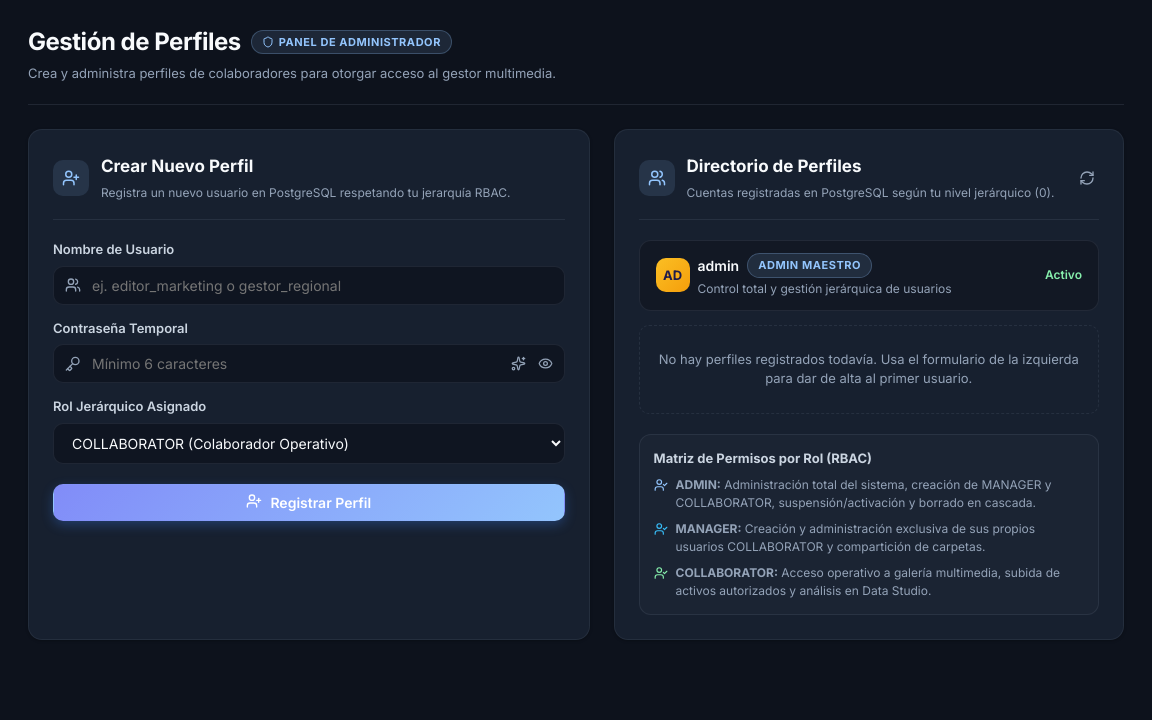
Test: UserProfilesView — RBAC & PostgreSQL CRUD Integration (Módulo 12) › allows ADMIN to select MANAGER role when creating a user
Type "nuevo_gestor" into the field labelled "Nombre de Usuario" at (309, 285), box top-left (53, 266), bottom-right (564, 304)
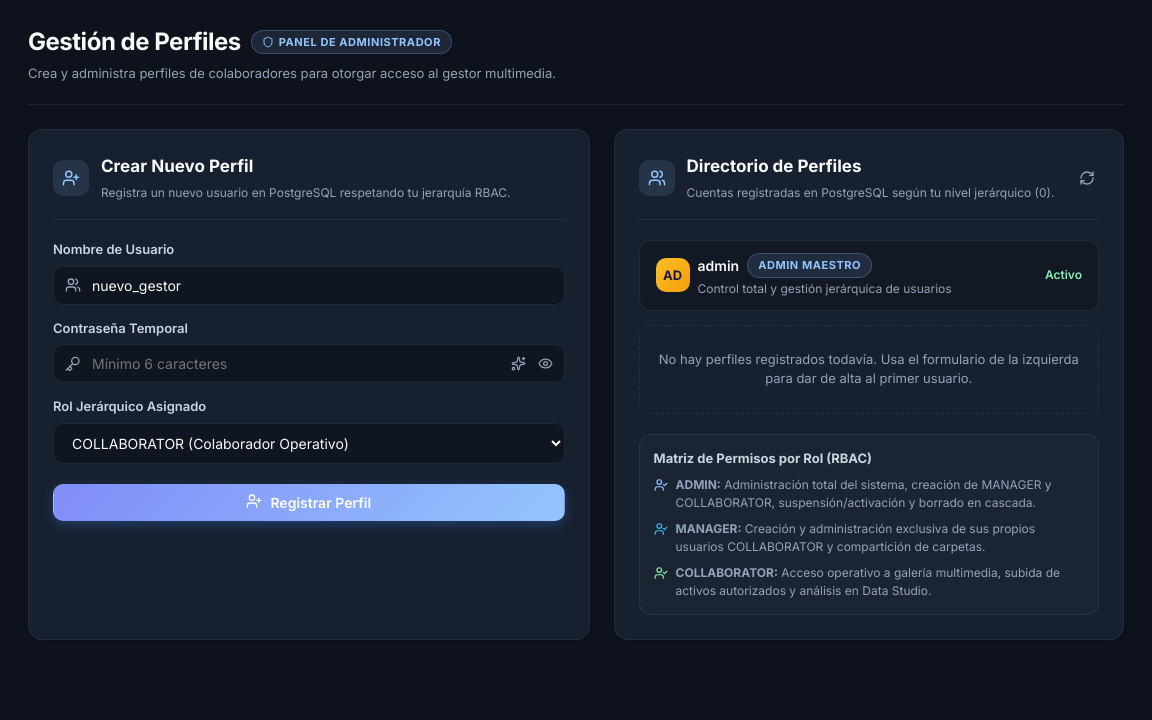
Type "GestorPass99!" into the password field labelled "Contraseña Temporal" at (309, 364), box top-left (53, 344), bottom-right (564, 383)
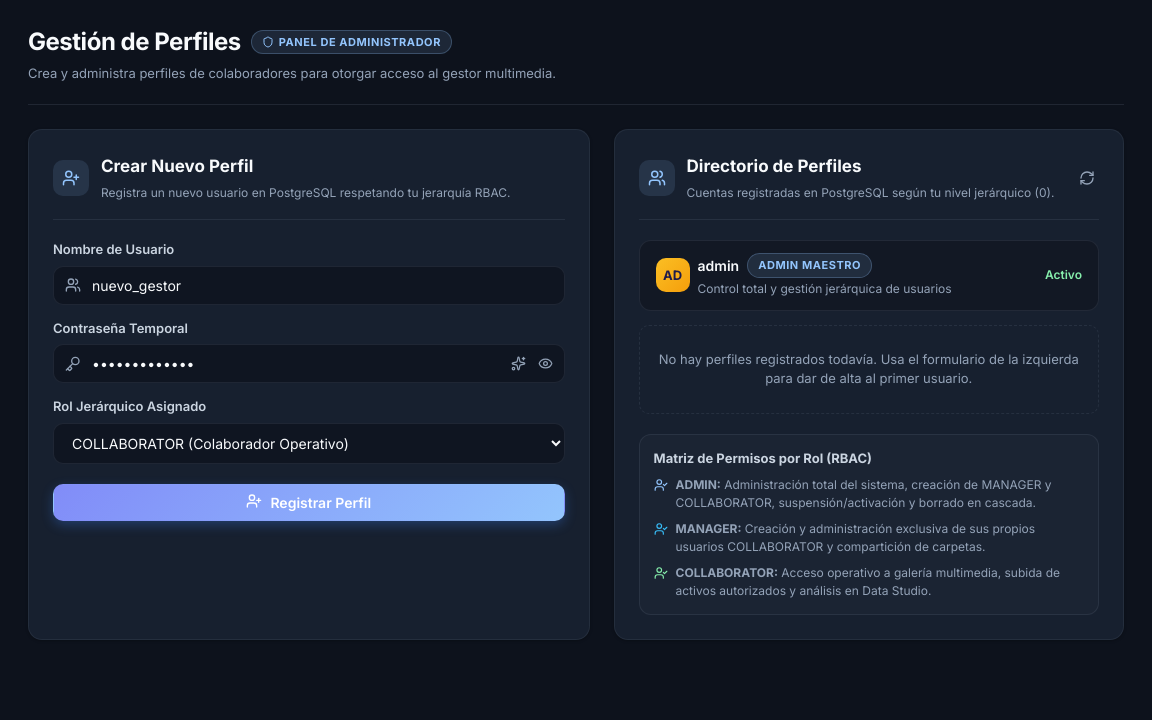
Select "MANAGER (Gestor de Equipo y Colaboradores)" in the dropdown labelled "Rol Jerárquico Asignado" at (309, 443), box top-left (53, 422), bottom-right (564, 464)
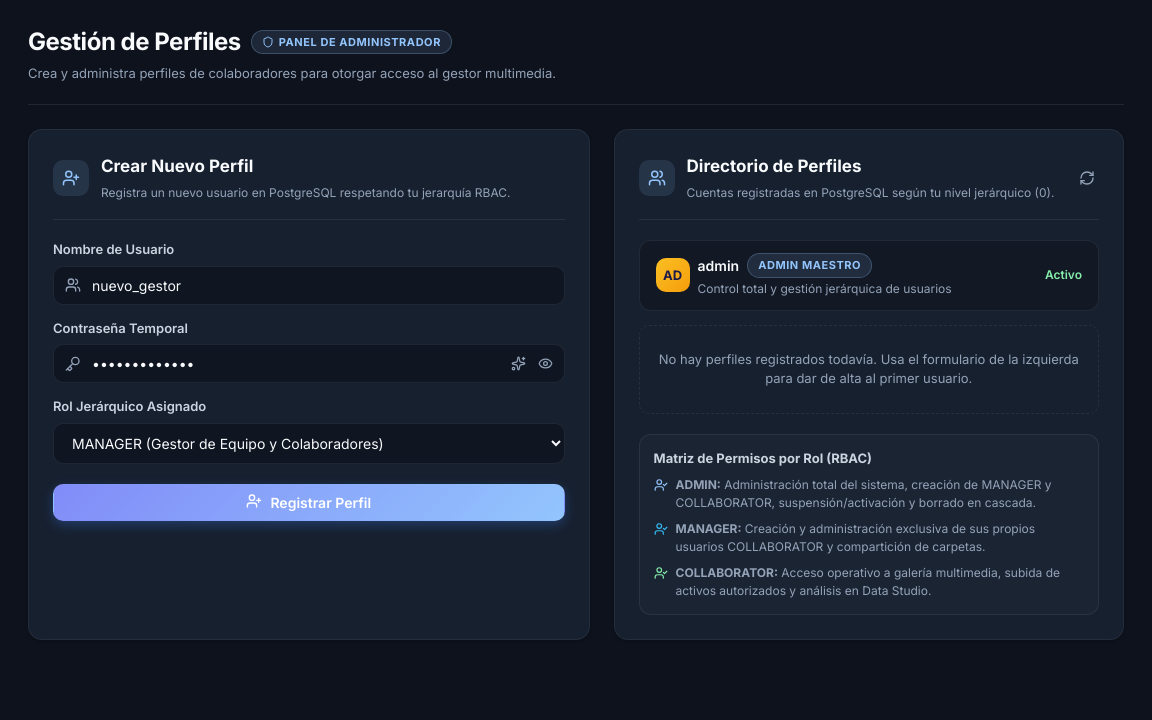
Click the button "Registrar Perfil" at (309, 502), box top-left (53, 484), bottom-right (564, 520)
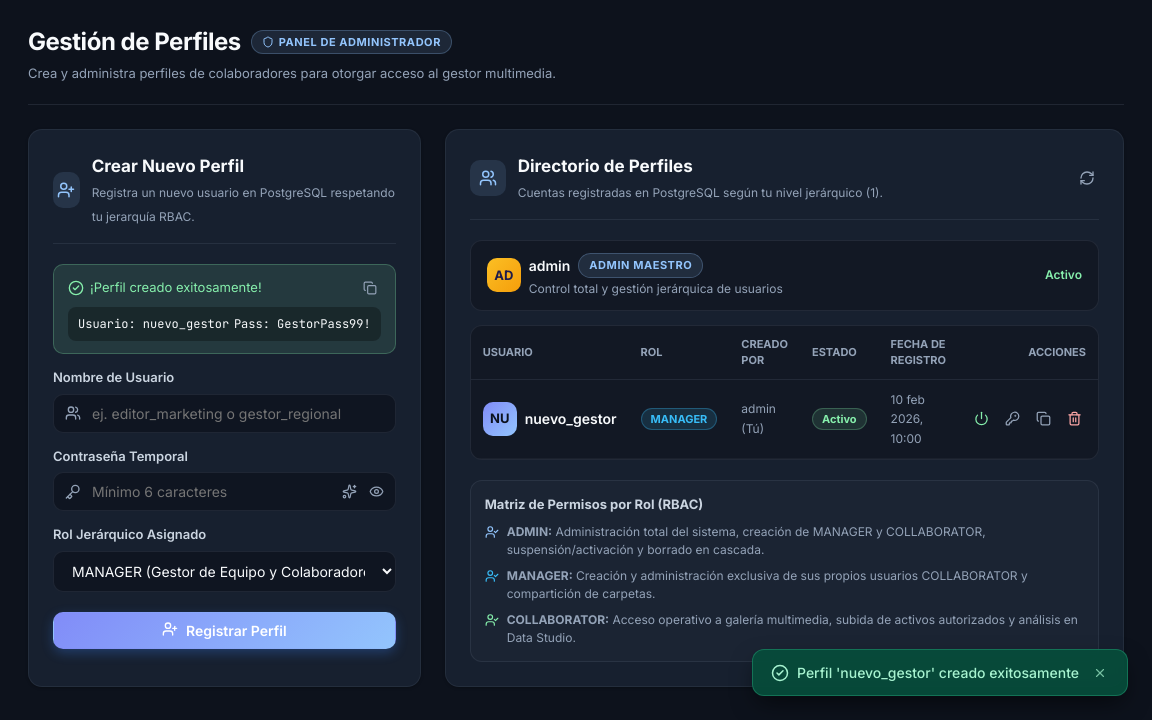
Result: the row with test id "user-row-nuevo_gestor" shows "MANAGER" at top-left (650, 412), bottom-right (707, 426)
